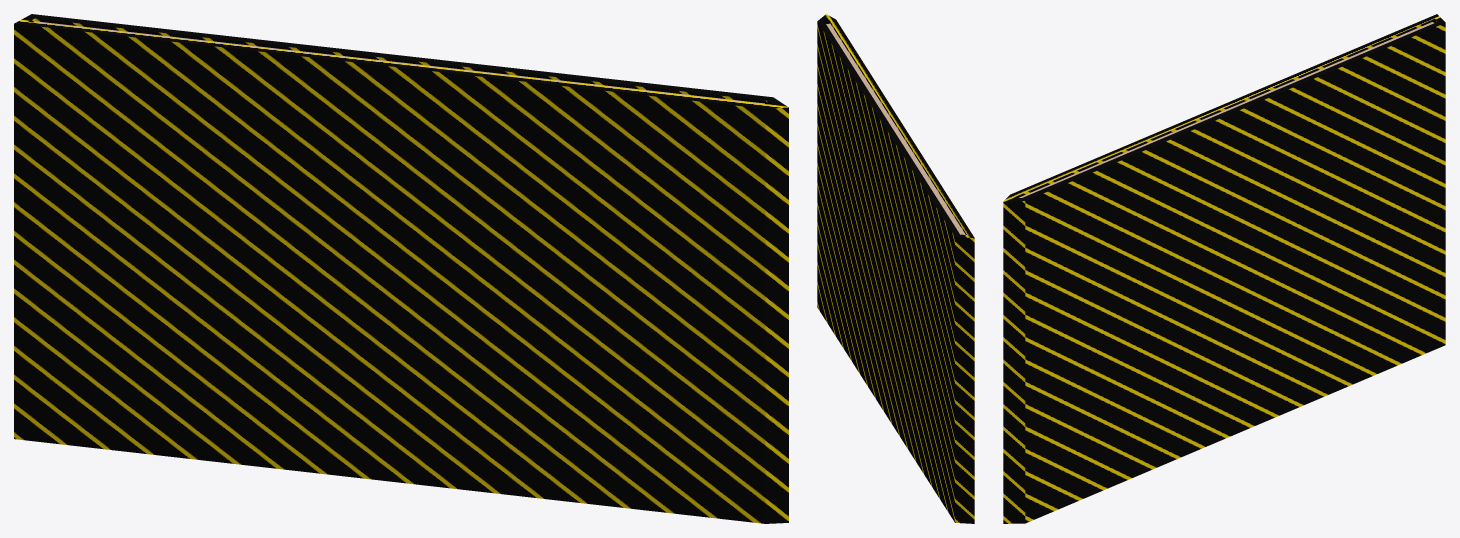
The model's file is WALLSET_O.FBX.
The picture shows the model from 3 angles, left to right: view 1: azimuth 30°, elevation 25°; view 2: azimuth 150°, elevation 25°; view 3: azimuth 270°, elevation 25°; orthographic projection. The views are drawn at different scales.
Parts seen in each view (by area): view 1: SELECTOR_09, FRAME_13; view 2: SELECTOR_09, FRAME_13; view 3: SELECTOR_09, FRAME_13.
Part boxes in pixels (x1,y1,x2,y2): SELECTOR_09: (14, 14, 788, 523); FRAME_13: (34, 21, 764, 103); SELECTOR_09: (817, 14, 974, 523); FRAME_13: (826, 23, 965, 234); SELECTOR_09: (1003, 14, 1445, 523); FRAME_13: (1019, 22, 1434, 197).
Size of the model in its own units: 113 by 90.37 by 112.
